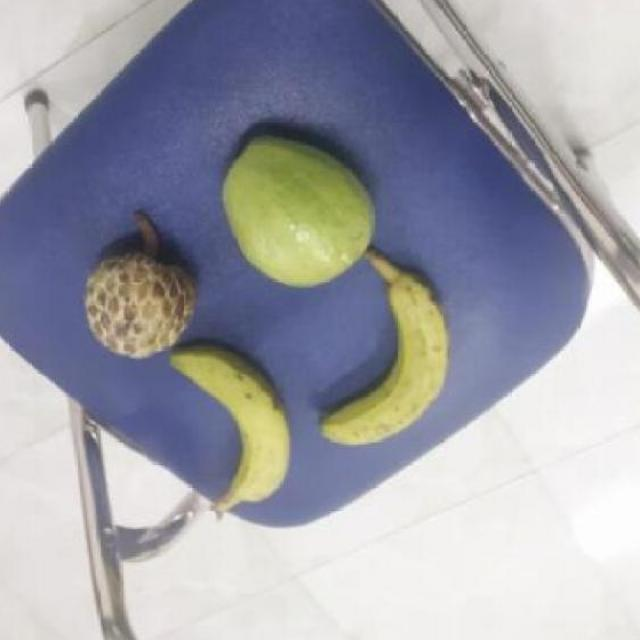banana: (317, 267, 457, 447), (169, 342, 301, 511)
guava: (223, 130, 383, 286)
sugar apple: (81, 228, 200, 360)
